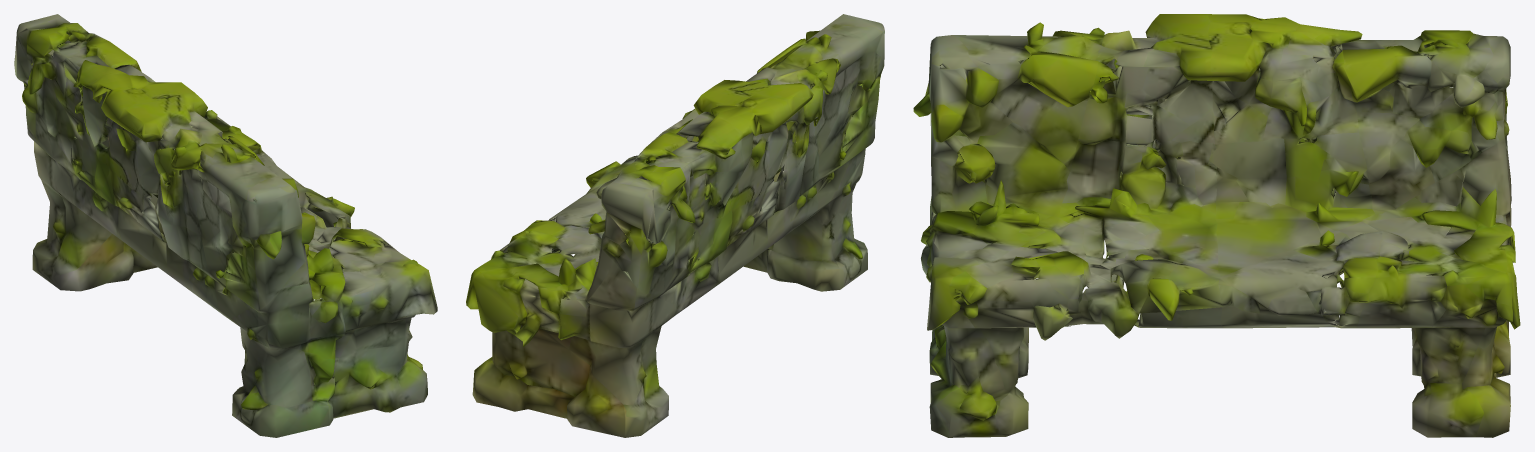
Rendered from ruin_bench.glb.
3 renders of one model, left to right at view 1: azimuth 30°, elevation 25°; view 2: azimuth 150°, elevation 25°; view 3: azimuth 270°, elevation 25°, orthographic. The views are drawn at different scales.
Visible parts, largest first — view 1: tripo_node_ad782051-d706-4977-a4d5-e76879dd29b9; view 2: tripo_node_ad782051-d706-4977-a4d5-e76879dd29b9; view 3: tripo_node_ad782051-d706-4977-a4d5-e76879dd29b9.
Boxes of the visible parts, x1,y1,x2,y2 form: tripo_node_ad782051-d706-4977-a4d5-e76879dd29b9: [14, 14, 437, 437]; tripo_node_ad782051-d706-4977-a4d5-e76879dd29b9: [466, 14, 884, 437]; tripo_node_ad782051-d706-4977-a4d5-e76879dd29b9: [913, 14, 1520, 437].
Size of the model in its own units: 0.5053 by 0.5857 by 0.9986.
Materials: 1 (1 with a texture image).
